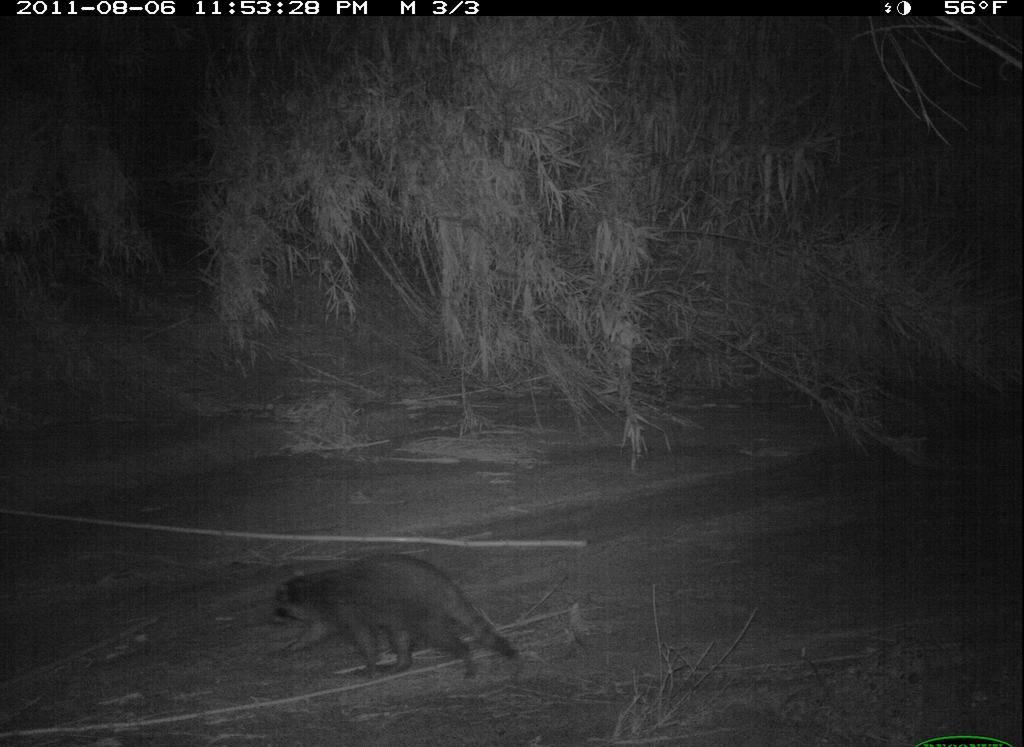raccoon: (260, 541, 532, 693)
